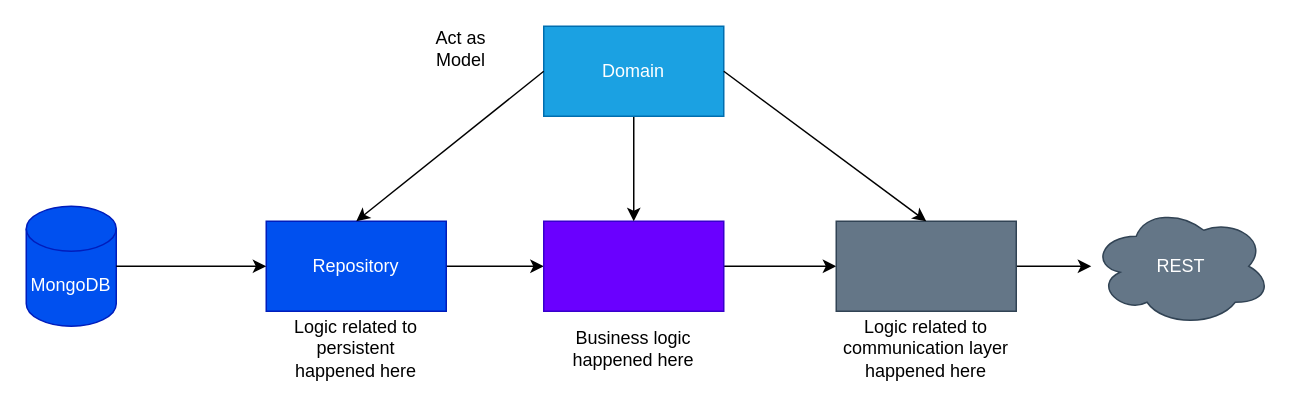
Image size: 1298x407. Some labels were removed from this diagram. Here are the shapes that lost their labels. From the top down, the box of each, then its label:
(542, 220, 724, 311): Usecase
(835, 220, 1016, 311): Delivery
